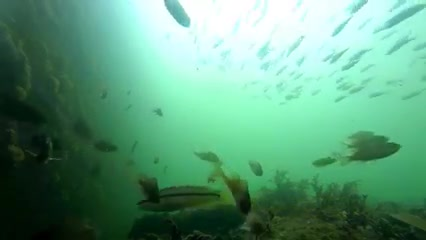bera: (128, 180, 228, 216)
smallfish: (337, 139, 403, 164)
